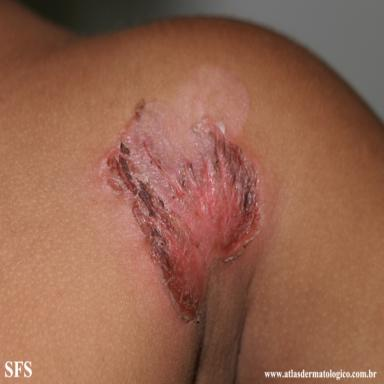Impetigo: (93, 62, 268, 325)
